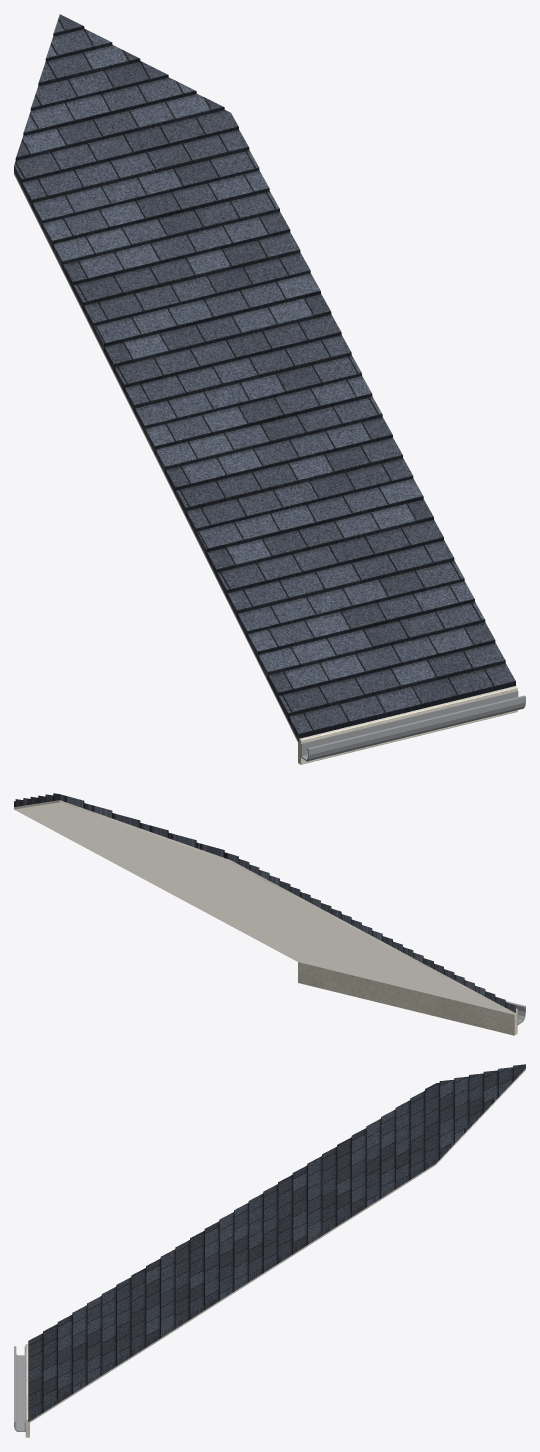
Rendered from roof_hip_0.glb.
3 renders of one model, top to bottom at view 1: azimuth 30°, elevation 25°; view 2: azimuth 150°, elevation 25°; view 3: azimuth 270°, elevation 25°, orthographic. The views are drawn at different scales.
Parts seen in each view (by area): view 1: roof_hip_0_shingles, roof_hip_0_gutter, roof_hip_0_trim, roof_hip_0_plaster; view 2: roof_hip_0_plaster, roof_hip_0_trim, roof_hip_0_shingles; view 3: roof_hip_0_shingles, roof_hip_0_plaster, roof_hip_0_gutter.
Boxes of the visible parts, box(x1,y1,x2,y2) form: roof_hip_0_shingles: box(14, 14, 515, 741); roof_hip_0_gutter: box(301, 690, 525, 761); roof_hip_0_trim: box(298, 686, 517, 764); roof_hip_0_plaster: box(14, 172, 298, 743); roof_hip_0_plaster: box(14, 800, 515, 1015); roof_hip_0_trim: box(298, 962, 517, 1035); roof_hip_0_shingles: box(14, 793, 515, 1012); roof_hip_0_shingles: box(28, 1064, 525, 1421); roof_hip_0_plaster: box(28, 1069, 525, 1423); roof_hip_0_gutter: box(14, 1346, 25, 1431).
Size of the model in its own units: 2 by 4.13 by 5.71.
Materials: 4 (3 with a texture image).
